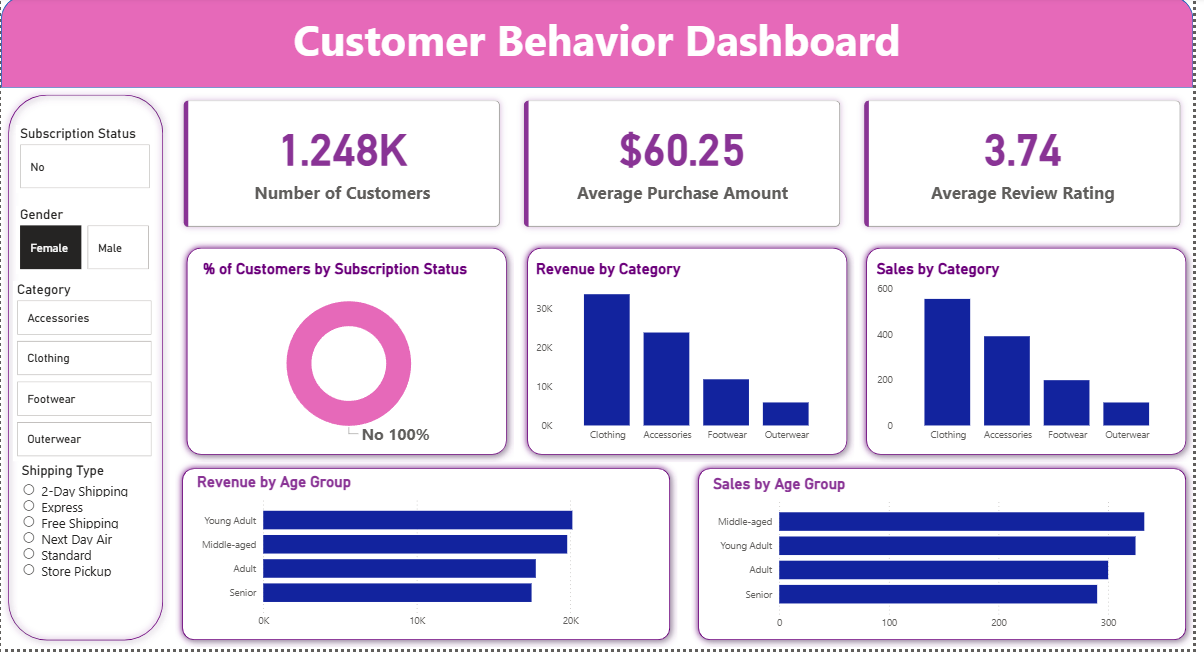

What the dashboard file says about the page in this screenshot:
{"tool":"powerbi","page":{"name":"Page 1","canvas":[1500,820],"ordinal":0},"visuals":[{"type":"cardVisual","fields":{"Data":["public customer.Number of Customers","public customer.Average Purchase Amount","public customer.Average Review Rating"]},"box":[212.9,115.3,1286.5,191.6],"z":2000},{"type":"shape","box":[218.3,585.6,631.7,234.2],"z":2500,"group":"g1"},{"type":"shape","box":[0,0,1499.4,115.3],"z":3000},{"type":"textbox","box":[0,12.4,1499.4,102.9],"z":4000},{"type":"shape","box":[225.4,307,420.5,278.6],"z":5000},{"type":"donutChart","title":"% of Customers by Subscription Status","fields":{"Category":["public customer.subscription_status"],"Y":["CountNonNull(public customer.customer_id)"]},"box":[248.4,331.8,376.2,237.8],"z":6000},{"type":"shape","box":[1078.9,307,420.5,278.6],"z":7000},{"type":"shape","box":[652.1,307,420.5,278.6],"z":8000},{"type":"clusteredColumnChart","title":"Revenue by Category","fields":{"Y":["Sum(public customer.purchase_amount)"],"Category":["public customer.category"]},"box":[667.2,331.8,385.1,237.8],"z":9000},{"type":"clusteredColumnChart","title":"Sales by Category","fields":{"Y":["CountNonNull(public customer.customer_id)"],"Category":["public customer.category"]},"box":[1096.6,331.8,385.1,237.8],"z":10000},{"type":"shape","box":[0,115.3,212.9,704.5],"z":11000},{"type":"advancedSlicerVisual","fields":{"Values":["public customer.subscription_status"]},"box":[19.5,161.5,173.9,85.2],"z":12000},{"type":"advancedSlicerVisual","fields":{"Values":["public customer.gender"]},"box":[19.5,264.4,173.9,85.2],"z":13000},{"type":"advancedSlicerVisual","fields":{"Values":["public customer.category"]},"box":[15.1,358.4,179.2,226.4],"z":14000},{"type":"listSlicer","fields":{"Values":["public customer.shipping_type"]},"box":[20.8,586.7,169.8,194.3],"z":15000},{"type":"shape","box":[867.7,585.6,631.7,234.2],"z":16000},{"type":"clusteredBarChart","title":"Sales by Age Group","fields":{"Y":["CountNonNull(public customer.customer_id)"],"Category":["public customer.age_group"]},"box":[890.8,601.5,585.6,204.1],"z":17000},{"type":"clusteredBarChart","title":"Revenue by Age Group","fields":{"Y":["Sum(public customer.purchase_amount)"],"Category":["public customer.age_group"]},"box":[241.4,601.6,585.6,204.1],"z":17500,"group":"g1"},{"type":"group","id":"g1","title":"Group 1","box":[218.3,585.6,631.7,234.2],"z":17501}]}

Visuals, with their boxes in screenshot pixels (x1, y1, x2, y2), scaled from the page's 1500x820 canvas onto the 1204x652 screenshot:
cardVisual - public customer.Number of Customers x public customer.Average Purchase Amount: left=171, top=92, right=1203, bottom=244
shape: left=175, top=466, right=682, bottom=651
shape: left=0, top=0, right=1203, bottom=92
textbox: left=0, top=10, right=1203, bottom=92
shape: left=181, top=244, right=518, bottom=466
"% of Customers by Subscription Status" donutChart: left=199, top=264, right=501, bottom=453
shape: left=866, top=244, right=1203, bottom=466
shape: left=523, top=244, right=861, bottom=466
"Revenue by Category" clusteredColumnChart: left=536, top=264, right=845, bottom=453
"Sales by Category" clusteredColumnChart: left=880, top=264, right=1189, bottom=453
shape: left=0, top=92, right=171, bottom=651
advancedSlicerVisual - public customer.subscription_status: left=16, top=128, right=155, bottom=196
advancedSlicerVisual - public customer.gender: left=16, top=210, right=155, bottom=278
advancedSlicerVisual - public customer.category: left=12, top=285, right=156, bottom=465
listSlicer - public customer.shipping_type: left=17, top=466, right=153, bottom=621
shape: left=696, top=466, right=1203, bottom=651
"Sales by Age Group" clusteredBarChart: left=715, top=478, right=1185, bottom=641
"Revenue by Age Group" clusteredBarChart: left=194, top=478, right=664, bottom=641
"Group 1" group: left=175, top=466, right=682, bottom=651
